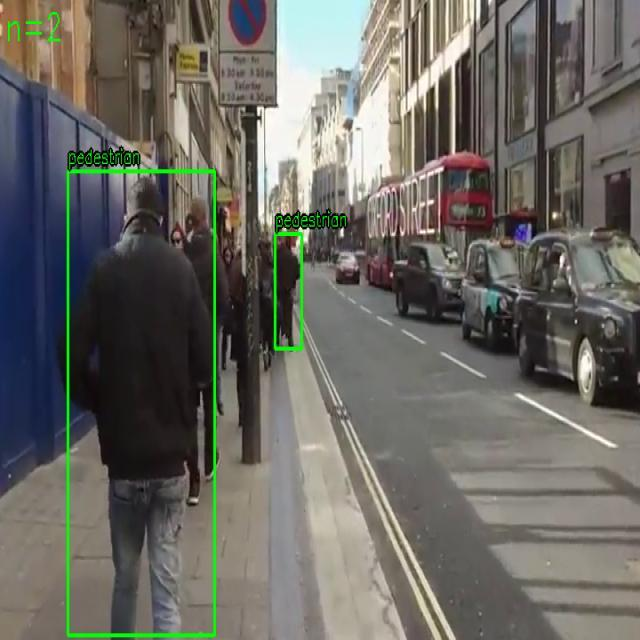with scooter: (68, 170, 216, 636), (274, 233, 302, 349)
